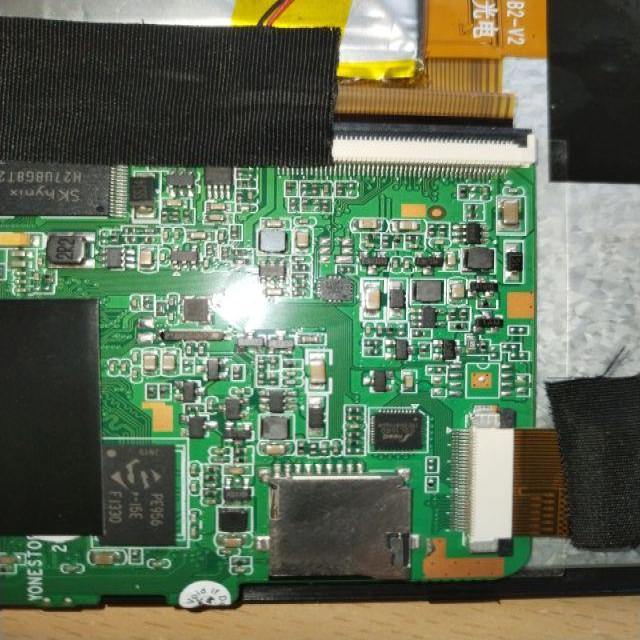capacitor: (305, 338, 333, 398), (496, 198, 526, 236), (360, 279, 385, 318), (85, 551, 121, 569), (186, 224, 218, 243), (140, 345, 159, 374), (136, 247, 158, 270), (163, 348, 180, 377), (450, 280, 468, 305), (261, 441, 289, 457), (352, 217, 378, 233), (220, 535, 245, 551), (294, 232, 310, 255), (262, 218, 292, 229), (263, 287, 290, 299), (391, 219, 418, 230), (204, 214, 235, 223), (0, 552, 23, 564), (224, 465, 245, 478), (401, 373, 414, 392), (210, 203, 230, 213), (166, 200, 186, 210), (189, 462, 197, 476), (35, 254, 43, 266), (15, 286, 28, 292)
resistor: (304, 350, 332, 392), (444, 304, 458, 324), (444, 322, 471, 332), (477, 336, 491, 354), (146, 379, 156, 404), (160, 382, 172, 401), (476, 297, 496, 307), (456, 184, 470, 198), (425, 477, 439, 491), (460, 305, 470, 320), (382, 236, 390, 254), (428, 220, 437, 236), (439, 223, 448, 239), (464, 212, 484, 219), (392, 237, 402, 250), (466, 204, 482, 210)
